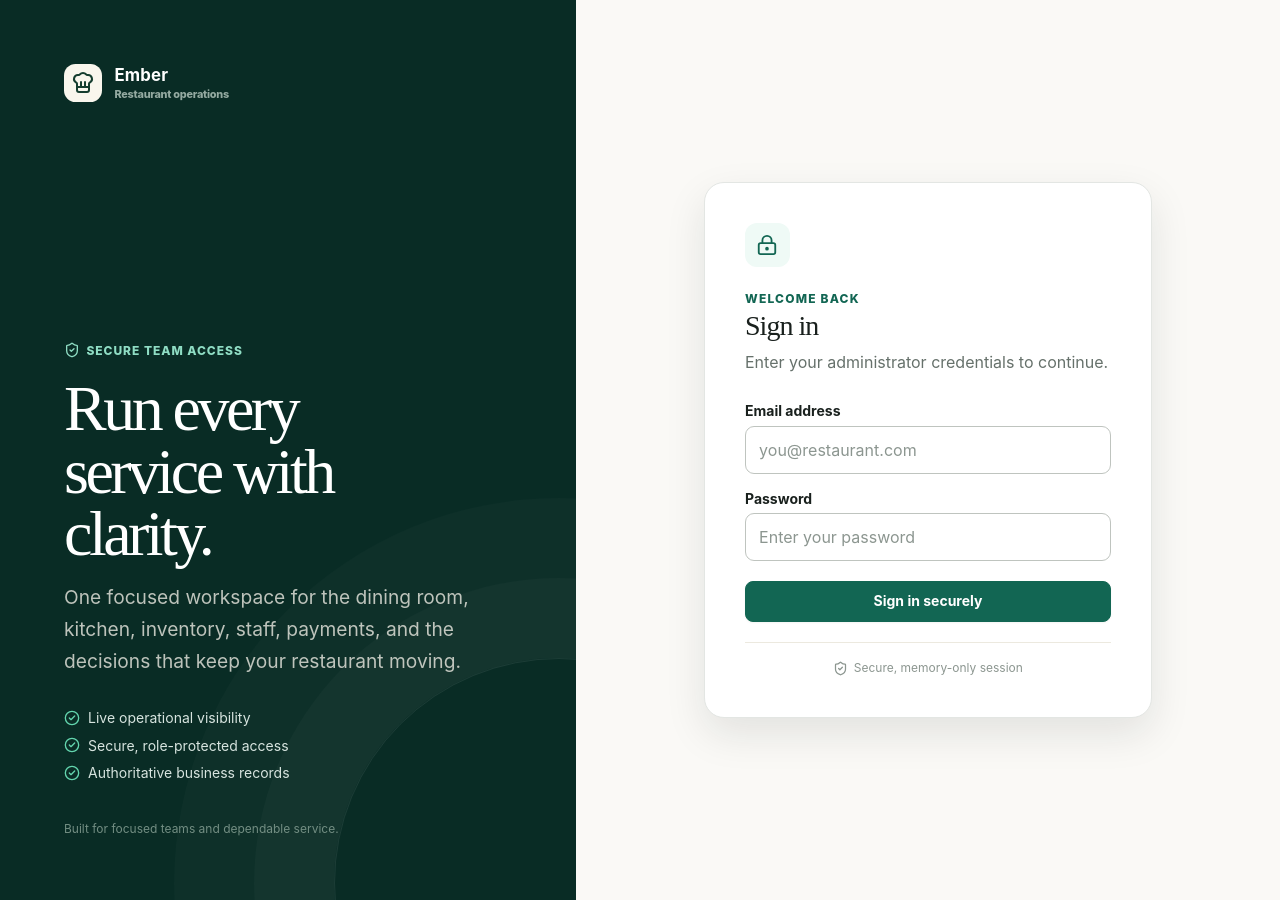
Test: LoginPage › shows the same safe generic message for rejected authentication
Expected: the heading "Sign in" is shown, top-left (745, 310), bottom-right (818, 341)
Type "operator@example.test" into the field labelled "Email address". click: (928,450)
box: top-left (745, 426), bottom-right (1111, 474)
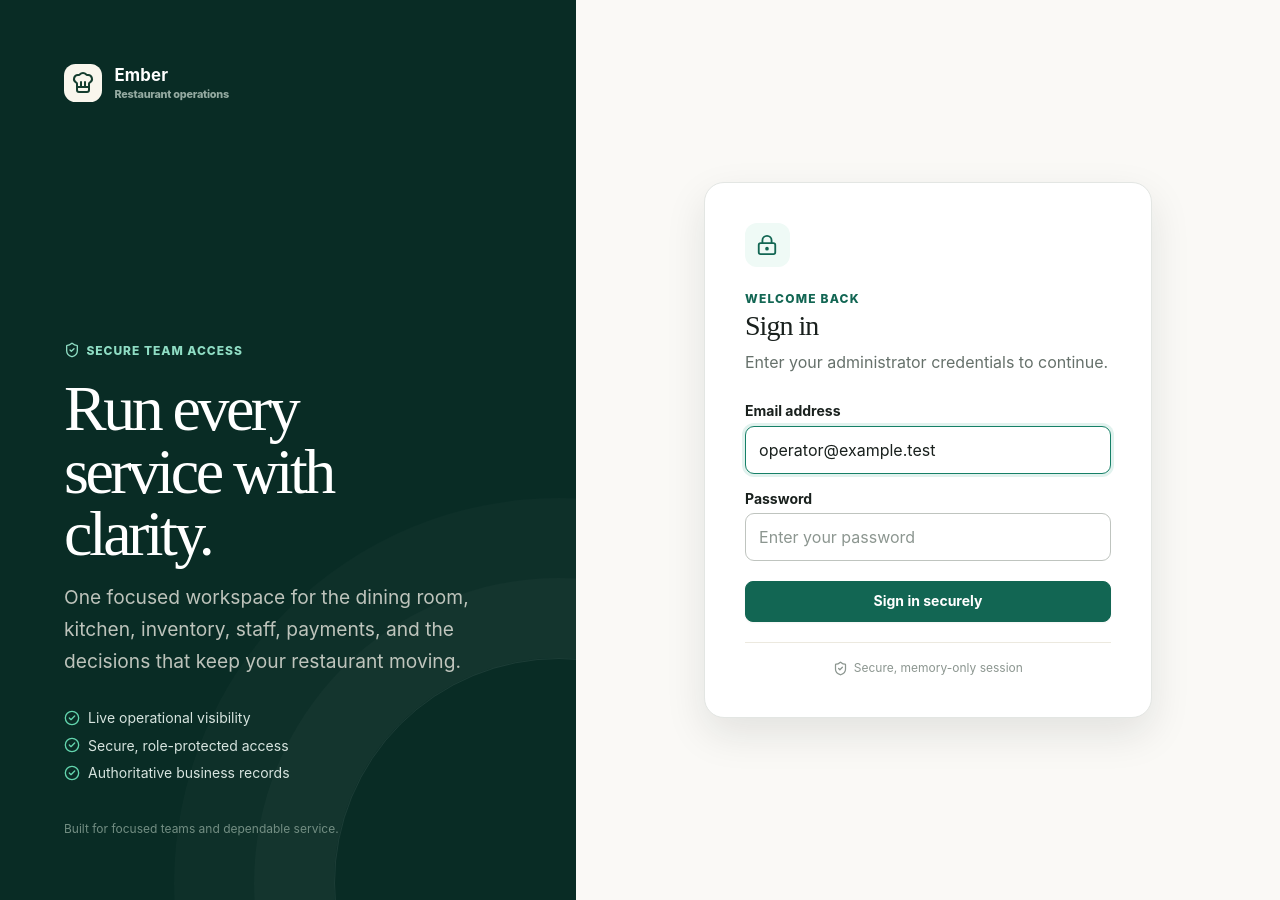
Type "valid-password" into the password field labelled "Password". click: (928,537)
box: top-left (745, 513), bottom-right (1111, 561)
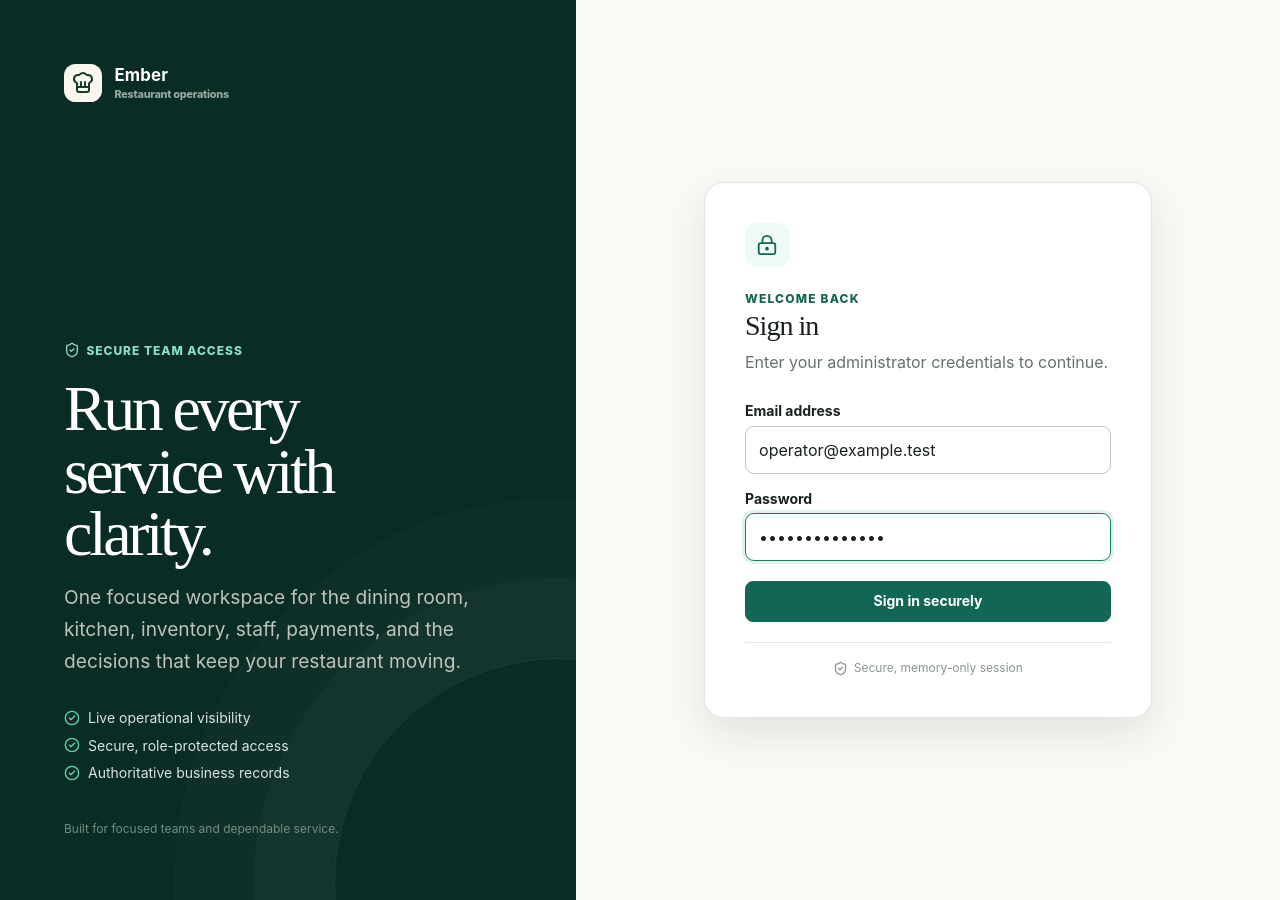
Click the button "Sign in securely". click: (928,602)
box: top-left (745, 581), bottom-right (1111, 622)
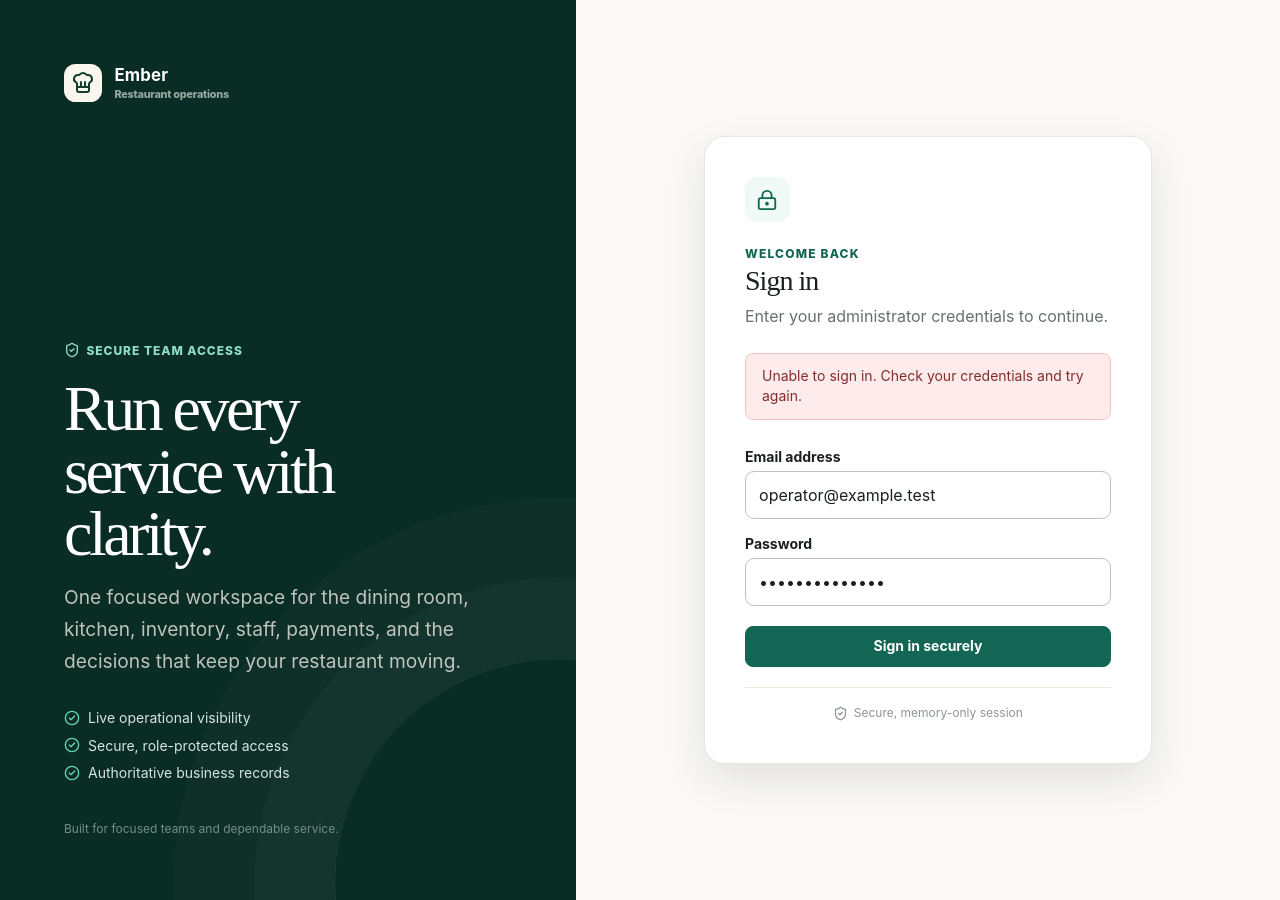
Expected: the message reads "Unable to sign in. Check your credentials and try again.", top-left (762, 367), bottom-right (1084, 404)
